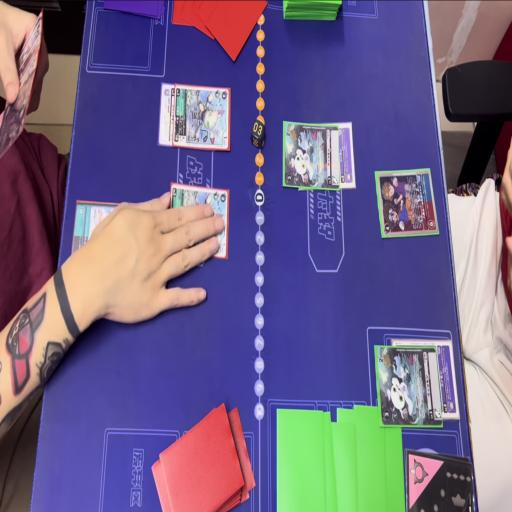card: (374, 345, 444, 428), (168, 186, 229, 262), (172, 82, 234, 156), (377, 167, 440, 237), (280, 118, 340, 191), (71, 200, 130, 272), (0, 62, 39, 160), (435, 336, 462, 422), (338, 118, 358, 193), (158, 81, 176, 150)
